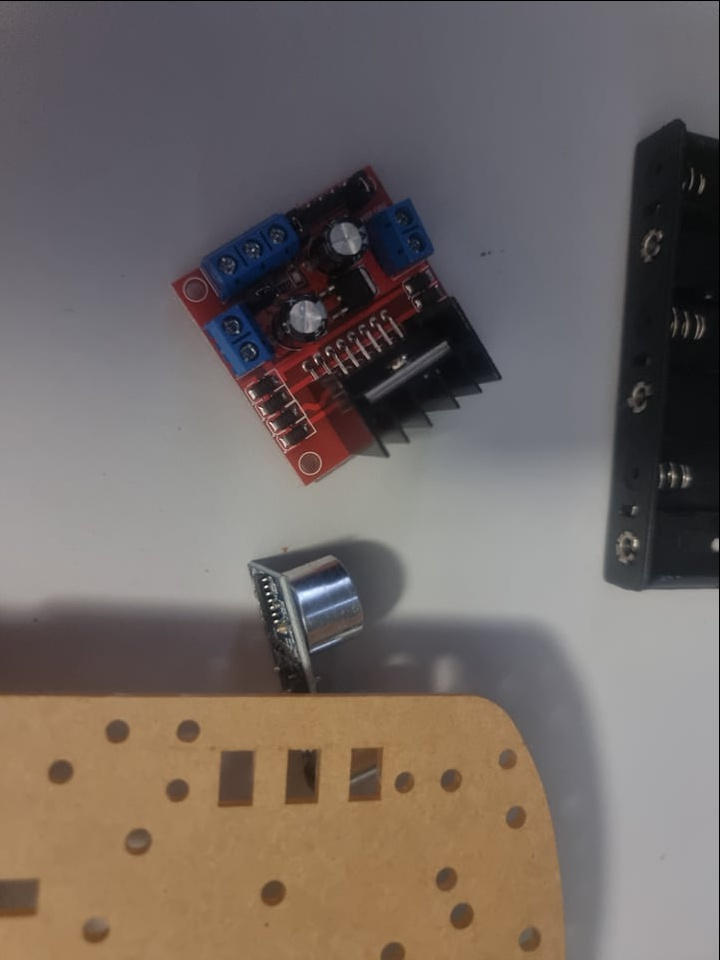BATTERY BOX: (598, 114, 720, 597)
MOTOR: (175, 157, 509, 485)
SENSOR: (238, 544, 389, 686)
